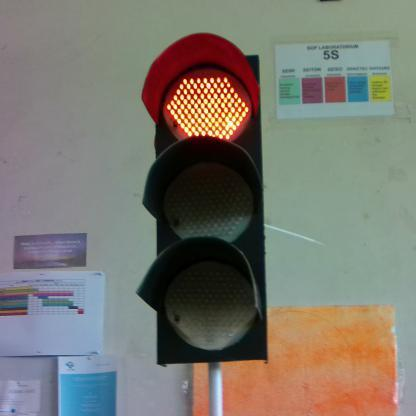red: (140, 32, 268, 362)
